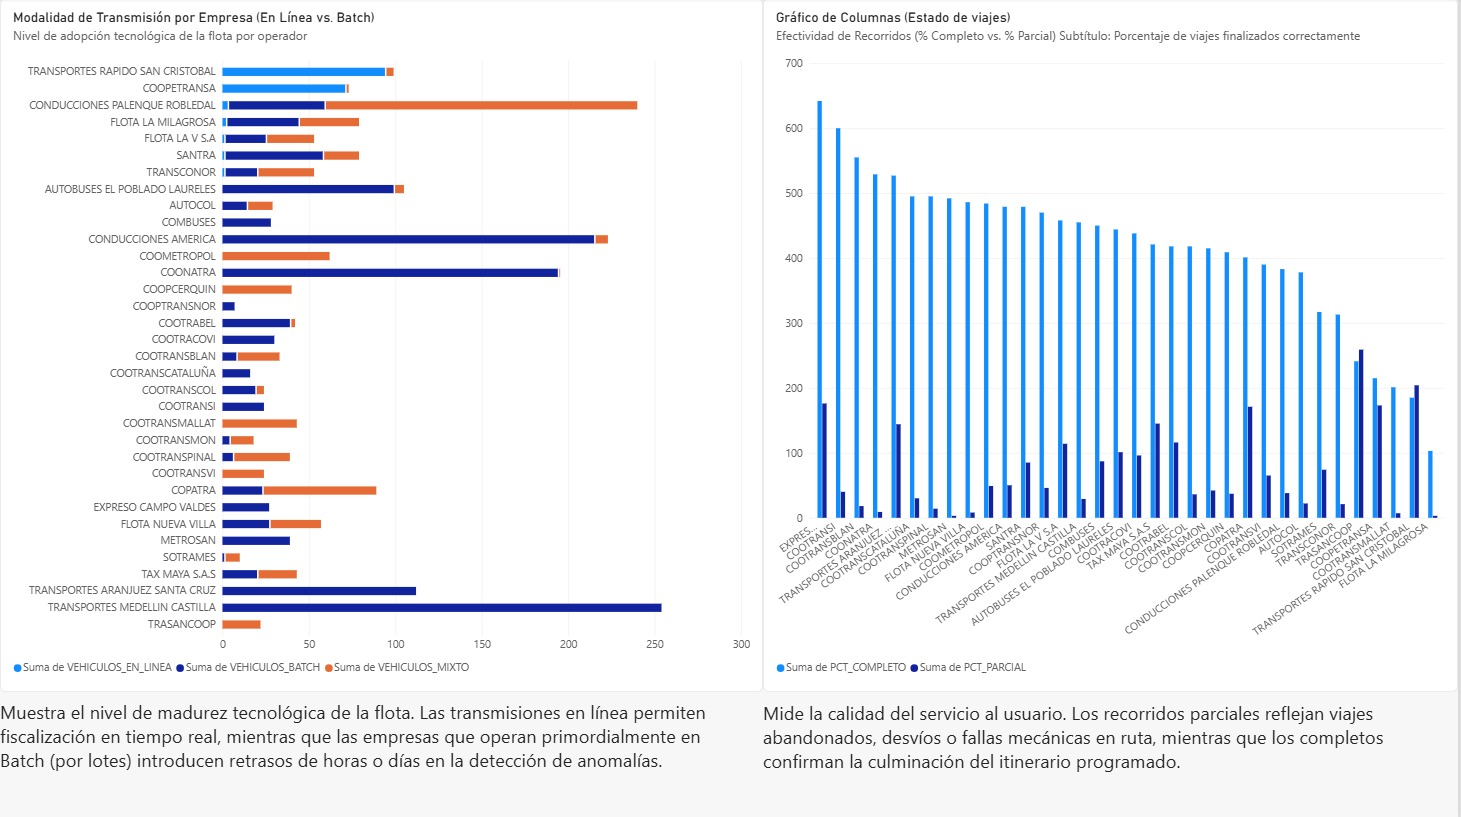

The dashboard page shown, as its layout file describes it:
{"tool":"powerbi","page":{"name":"Graficos","canvas":[1920,1080],"ordinal":1},"visuals":[{"type":"barChart","title":"Modalidad de Transmisión por Empresa (En Línea vs. Batch)","fields":{"Category":["resumen_transmision.EMPRESA"],"Y":["Sum(resumen_transmision.VEHICULOS_EN_LINEA)","Sum(resumen_transmision.VEHICULOS_BATCH)","Sum(resumen_transmision.VEHICULOS_MIXTO)"]},"box":[0,0,1005,913.6],"z":0},{"type":"clusteredColumnChart","title":"Gráfico de Columnas (Estado de viajes)","fields":{"Category":["resumen_empresa.EMPRESA"],"Y":["Sum(resumen_empresa.PCT_COMPLETO)","Sum(resumen_empresa.PCT_PARCIAL)"]},"box":[1005,0,915,913.6],"z":1},{"type":"textbox","box":[0,923.7,960,156.6],"z":2},{"type":"textbox","box":[1005,924,915,156],"z":3}]}

Visuals, with their boxes in screenshot pixels (x1, y1, x2, y2), scaled from the page's 1920x1080 canvas onto the 1461x817 screenshot:
"Modalidad de Transmisión por Empresa (En Línea vs. Batch)" barChart: {"x1": 0, "y1": 0, "x2": 765, "y2": 691}
"Gráfico de Columnas (Estado de viajes)" clusteredColumnChart: {"x1": 765, "y1": 0, "x2": 1460, "y2": 691}
textbox: {"x1": 0, "y1": 699, "x2": 730, "y2": 816}
textbox: {"x1": 765, "y1": 699, "x2": 1460, "y2": 816}
